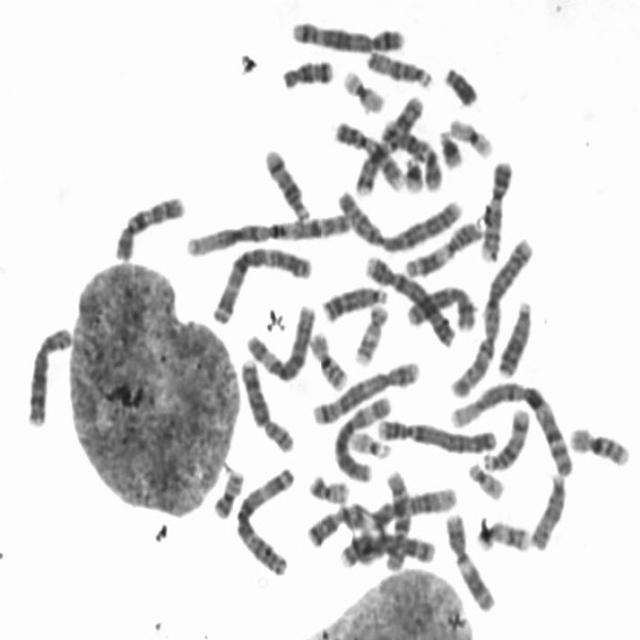A1: (445, 375, 579, 479), (181, 205, 353, 259)
A2: (447, 230, 536, 400), (332, 182, 463, 253)
A3: (208, 238, 315, 325), (230, 461, 296, 578)
B4: (360, 249, 459, 349), (375, 412, 501, 456)
B5: (308, 355, 422, 426), (287, 14, 407, 54)
C10: (110, 188, 188, 264), (382, 466, 412, 572)
C11: (442, 508, 499, 613), (401, 214, 485, 278)
C12: (378, 116, 445, 192), (368, 481, 459, 530)
C6: (243, 298, 316, 384), (329, 391, 393, 483)
C7: (351, 89, 427, 197), (336, 534, 437, 568)
C8: (235, 352, 298, 454), (23, 318, 76, 428)
C9: (332, 116, 407, 190), (477, 154, 516, 263)
D13: (493, 294, 534, 379), (318, 279, 390, 324)
D14: (260, 141, 312, 224), (478, 402, 532, 473)
D15: (526, 468, 568, 552), (362, 45, 436, 89)
E16: (566, 420, 633, 468), (306, 326, 351, 392)
E17: (350, 298, 391, 367), (474, 515, 533, 554)
E18: (278, 53, 336, 91), (310, 510, 352, 549)
F19: (446, 111, 496, 160), (338, 64, 387, 114)
F20: (209, 464, 246, 520), (305, 468, 351, 505)
G21: (435, 123, 465, 170), (399, 150, 426, 194)
G22: (463, 456, 508, 501), (348, 426, 393, 460)
X: (402, 278, 480, 332)
Y: (440, 59, 481, 108)
